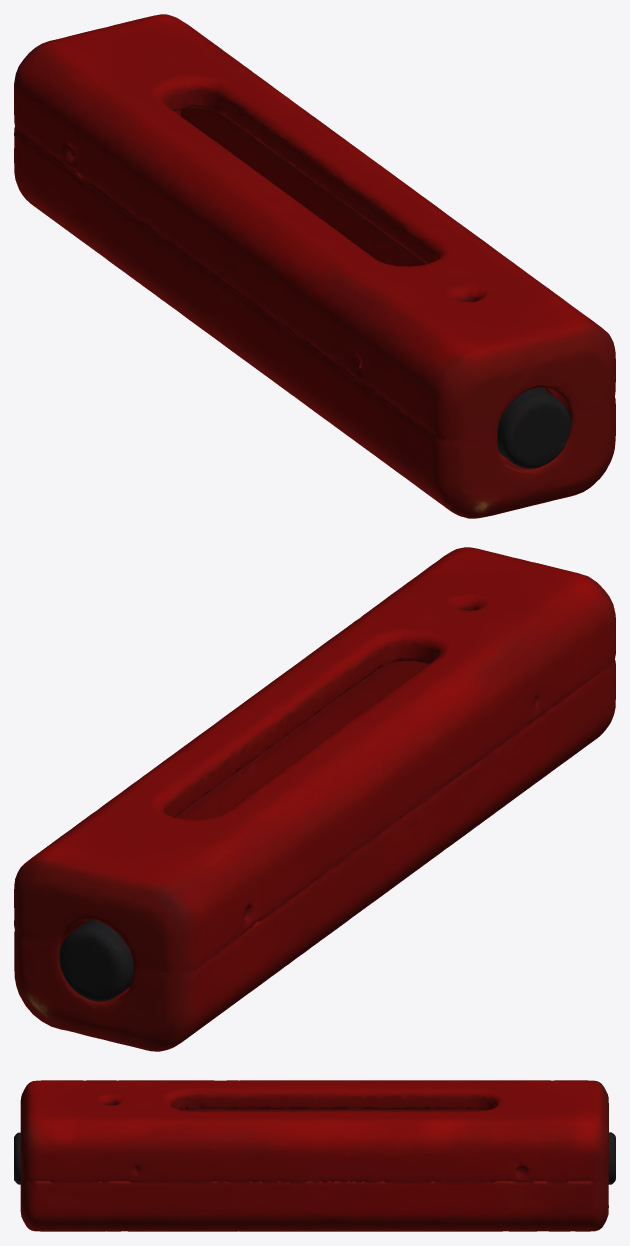
Rendered from smalllectureroom_PodiumLaserPointer.glb.
3 renders of one model, top to bottom at view 1: azimuth 30°, elevation 25°; view 2: azimuth 150°, elevation 25°; view 3: azimuth 270°, elevation 25°, orthographic. The views are drawn at different scales.
Visible parts, largest first — view 1: world; view 2: world; view 3: world.
Part boxes in pixels (box(x1,y1,x2,y2)): world: box(14, 14, 615, 518); world: box(14, 547, 615, 1051); world: box(14, 1080, 615, 1231).
Bounding box in the file's own units: 0.2303 × 0.2093 × 1.
Materials: 1 (1 with a texture image).
